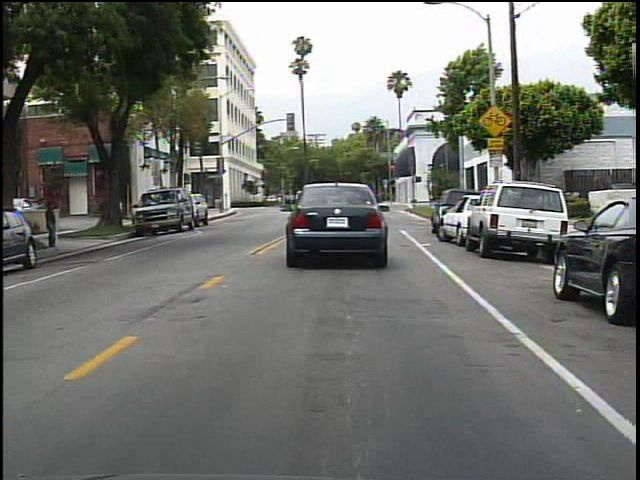person: (46, 197, 64, 250)
